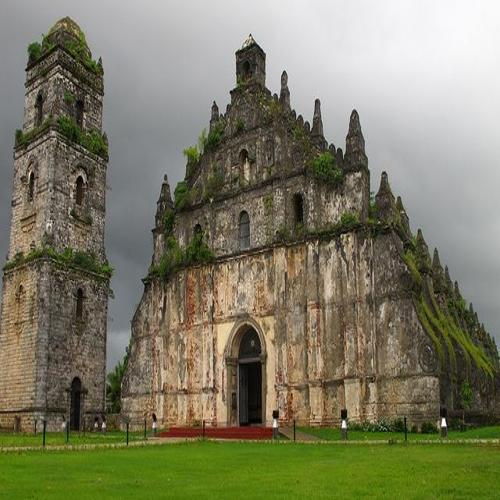Paoay Church: (4, 11, 500, 430)
